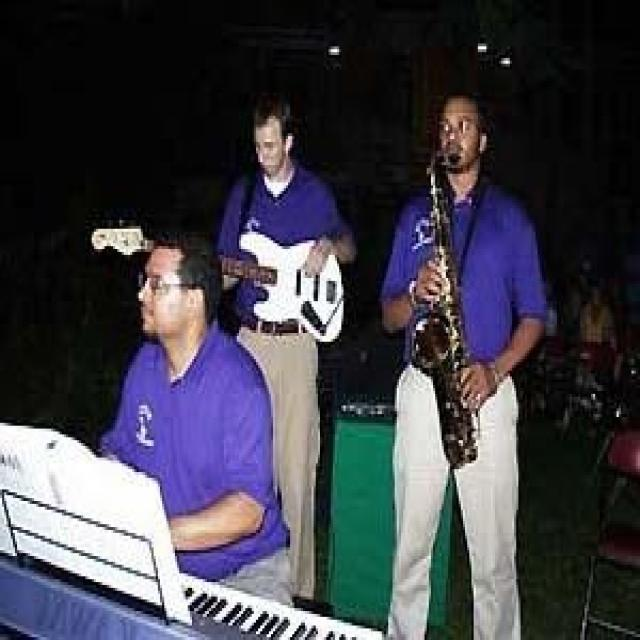saxophone: (409, 148, 492, 467)
